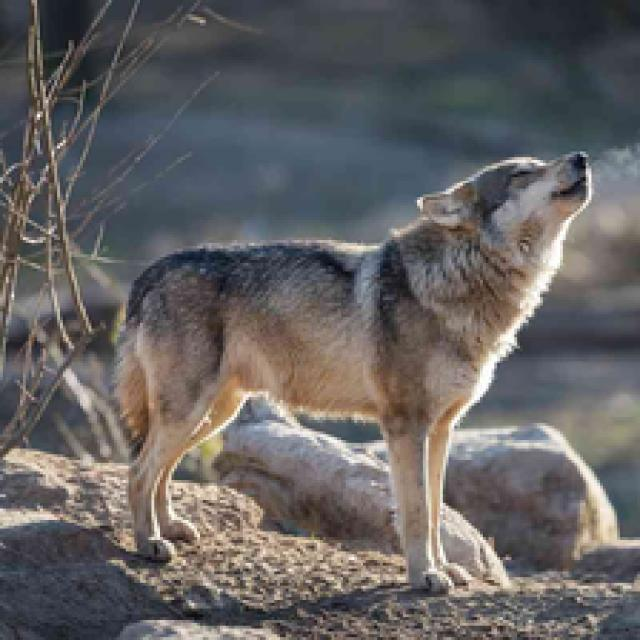wolf: (76, 123, 606, 603)
